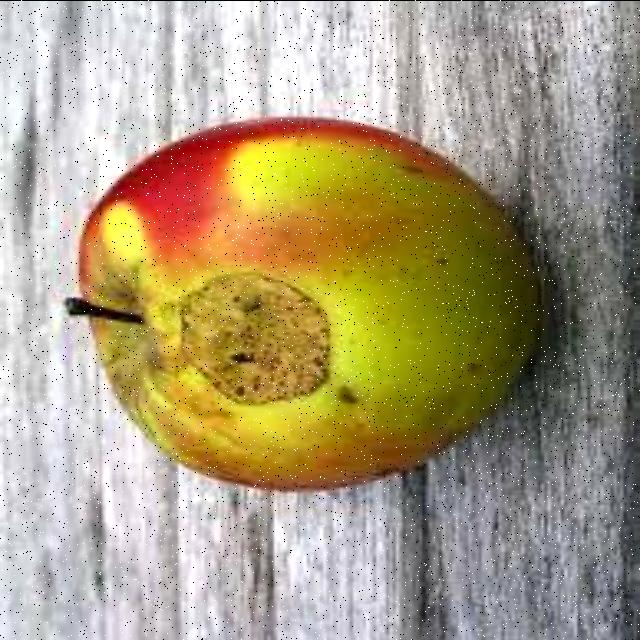SCAB: (46, 100, 543, 496)
